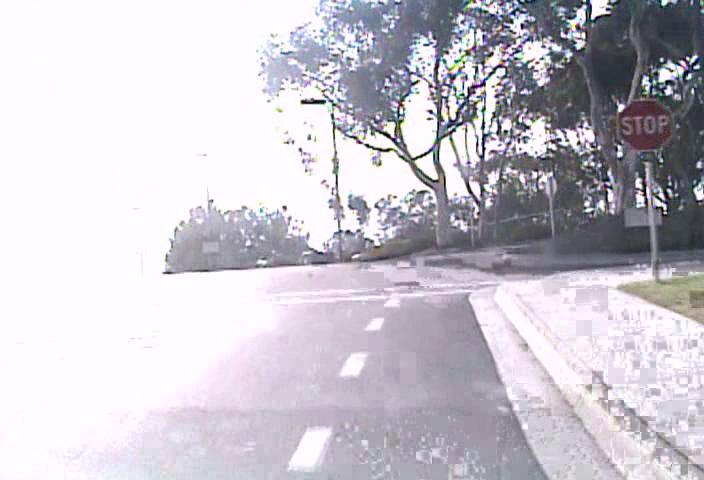stop: (617, 98, 673, 152)
